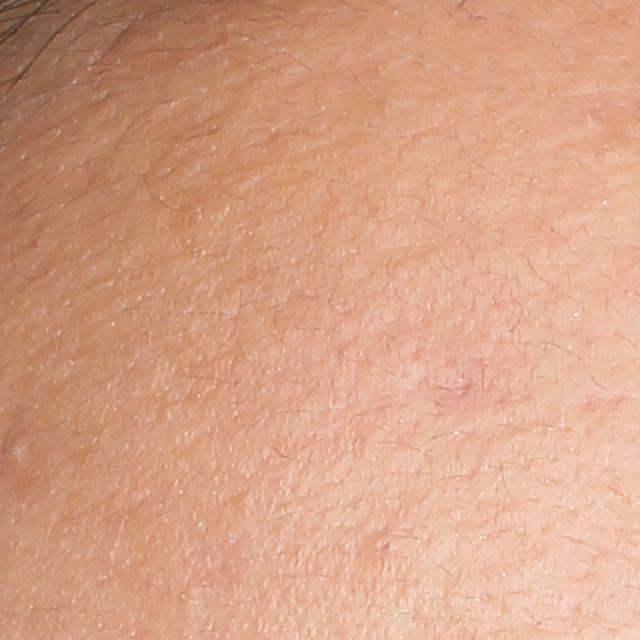comedo: (5, 434, 39, 470)
